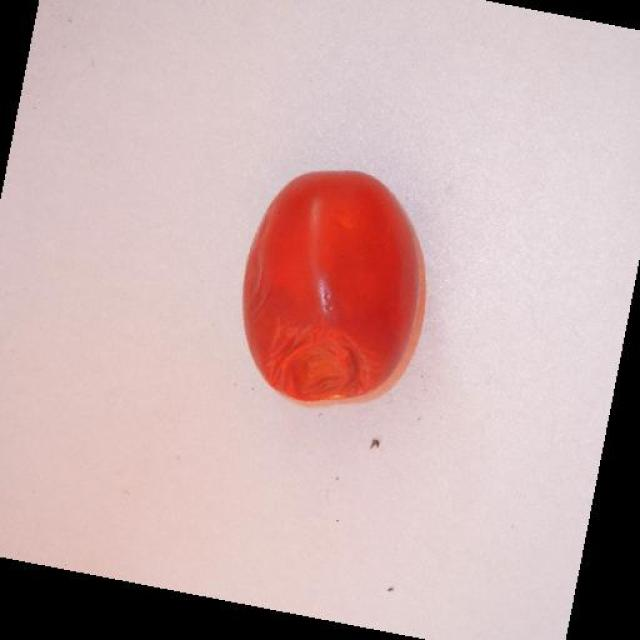Stale_tomato: (245, 283, 397, 405)
